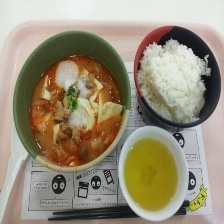rice: (136, 39, 214, 123)
